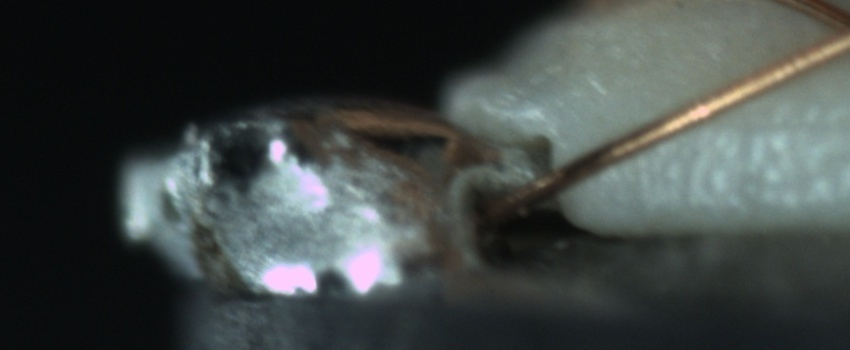CL: (805, 0, 849, 66)
DL: (698, 94, 850, 158)
